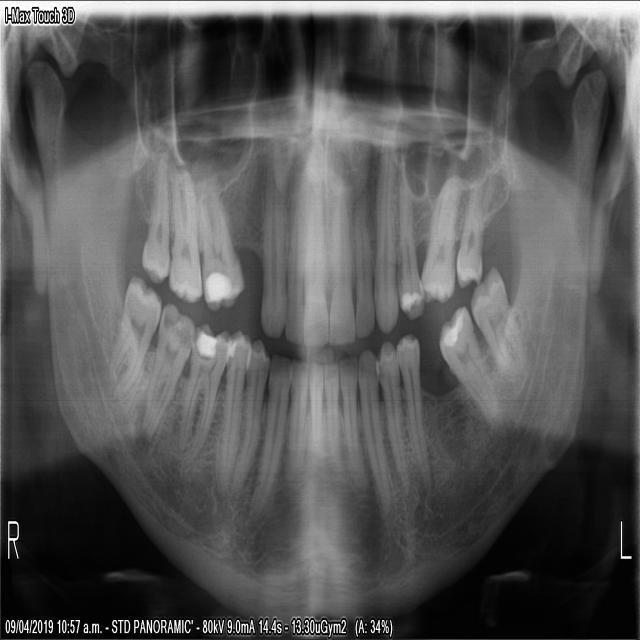LCD: (356, 347, 391, 519)
LCU: (372, 144, 397, 332)
LID: (338, 349, 365, 491), (323, 357, 343, 462)
LIU: (325, 197, 354, 347), (350, 198, 374, 340)
LMD: (436, 297, 501, 425), (466, 260, 527, 388)
LMU: (454, 185, 489, 286)
LPMD: (375, 338, 412, 492), (394, 331, 429, 478)
LPMU: (418, 162, 462, 304), (395, 149, 425, 321)
RCD: (248, 349, 289, 497)
RCU: (258, 168, 286, 343)
RID: (284, 356, 306, 472), (307, 352, 324, 462)
RIU: (300, 188, 328, 353), (284, 194, 302, 344)
RMD: (136, 299, 195, 445), (178, 315, 230, 467), (100, 270, 162, 390)
RMU: (137, 157, 170, 282)
RPMD: (210, 325, 249, 476), (232, 332, 267, 480)
RPMU: (196, 184, 242, 312), (167, 162, 202, 307)
